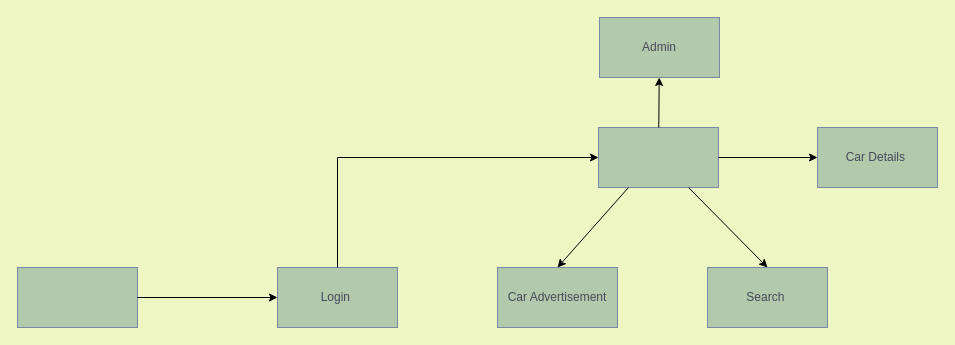
Image size: 955x345. Some labels were removed from this diagram. The shapes that lost their labels are listed below. From the top down, each one's box as (x1, y1, x2, y2) in pixels, then its label:
(598, 126, 718, 188): Car Listing
(16, 266, 138, 328): Register Page
